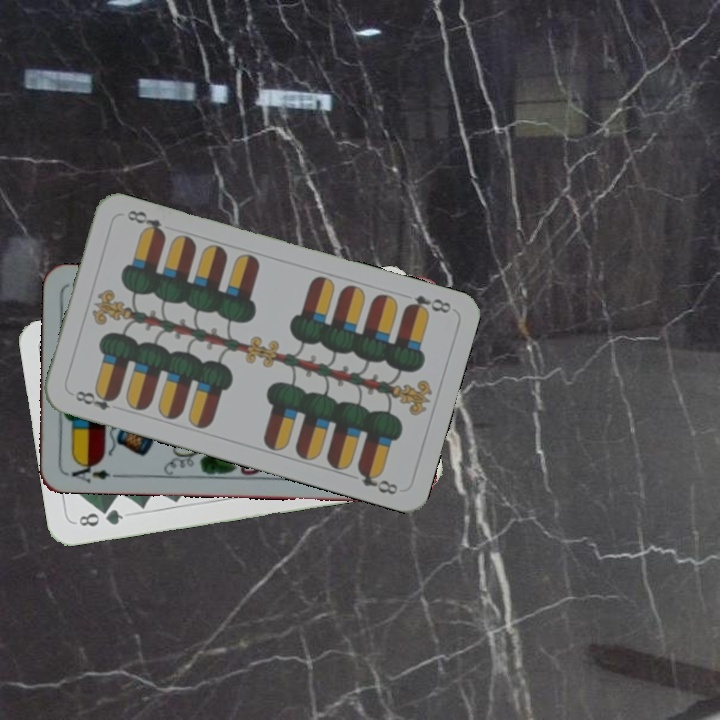E8: (400, 291, 454, 318), (67, 386, 120, 413)
EA: (67, 457, 121, 485)
G8: (71, 504, 126, 530)
